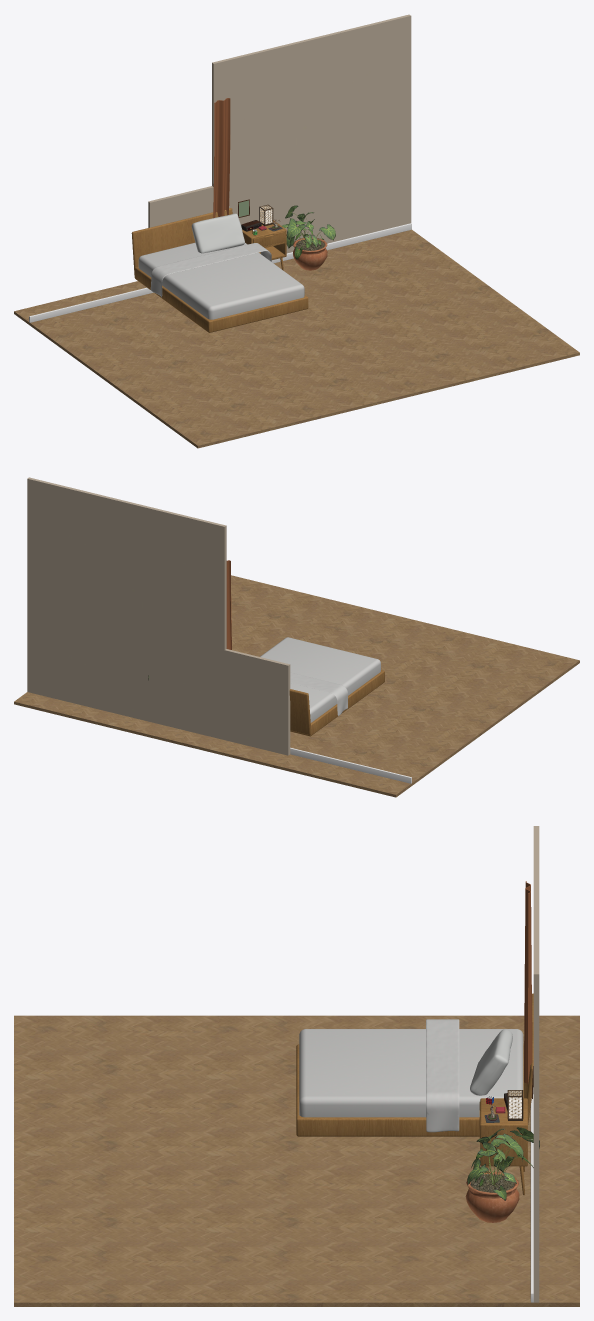
File: pot-0.02.glb
The picture shows the model from 3 angles, top to bottom: view 1: azimuth 30°, elevation 25°; view 2: azimuth 150°, elevation 25°; view 3: azimuth 270°, elevation 25°; orthographic projection. The views are drawn at different scales.
Visible parts, largest first — view 1: Floor, WallRight, WallFar, Mattress, BedFrame, Curtain1, Headboard, potted_plant_02, WallBelow, Skirting, Pillow1, SheetFold (+1 smaller); view 2: Floor, WallRight, WallFar, WallBelow, Mattress, BedFrame, Skirting, Headboard, SheetFold, Curtain1; view 3: Floor, Mattress, SheetFold, potted_plant_02, BedFrame, WallFar, Nightstand, Pillow1, Curtain1, Skirting, WallRight.
Boxes of the visible parts, x1=… form: Floor: x1=14, y1=229, x2=579, y2=448; WallRight: x1=212, y1=31, x2=340, y2=253; WallFar: x1=339, y1=14, x2=411, y2=240; Mattress: x1=138, y1=242, x2=304, y2=319; BedFrame: x1=134, y1=266, x2=308, y2=332; Curtain1: x1=213, y1=98, x2=230, y2=218; Headboard: x1=131, y1=208, x2=232, y2=276; potted_plant_02: x1=282, y1=205, x2=335, y2=270; WallBelow: x1=148, y1=186, x2=213, y2=227; Skirting: x1=29, y1=223, x2=411, y2=322; Pillow1: x1=191, y1=213, x2=244, y2=253; SheetFold: x1=150, y1=243, x2=271, y2=297; Floor: x1=14, y1=575, x2=579, y2=797; WallRight: x1=97, y1=494, x2=226, y2=739; WallFar: x1=27, y1=477, x2=98, y2=708; WallBelow: x1=224, y1=649, x2=290, y2=755; Mattress: x1=260, y1=637, x2=380, y2=722; BedFrame: x1=290, y1=670, x2=384, y2=736; Skirting: x1=290, y1=747, x2=411, y2=783; Headboard: x1=289, y1=689, x2=311, y2=734; SheetFold: x1=290, y1=672, x2=347, y2=715; Curtain1: x1=226, y1=560, x2=231, y2=649; Floor: x1=14, y1=1015, x2=579, y2=1306; Mattress: x1=299, y1=1029, x2=523, y2=1117; SheetFold: x1=426, y1=1019, x2=459, y2=1132; potted_plant_02: x1=465, y1=1127, x2=539, y2=1222; BedFrame: x1=296, y1=1044, x2=523, y2=1136; WallFar: x1=533, y1=921, x2=539, y2=1302; Nightstand: x1=479, y1=1098, x2=527, y2=1195; Pillow1: x1=470, y1=1029, x2=512, y2=1095; Curtain1: x1=524, y1=881, x2=532, y2=1086; Skirting: x1=530, y1=1087, x2=533, y2=1302; WallRight: x1=533, y1=826, x2=539, y2=921.
Bounding box in the file's own units: 60 × 32.4 × 50.
48 materials, 11 textured.
